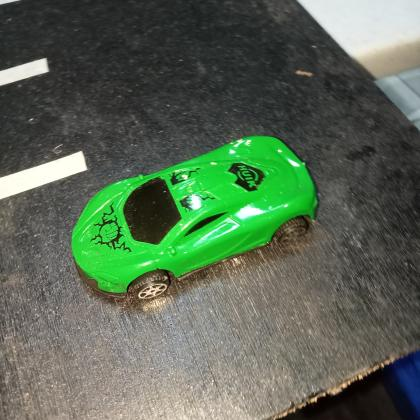Car: (68, 134, 321, 301)
